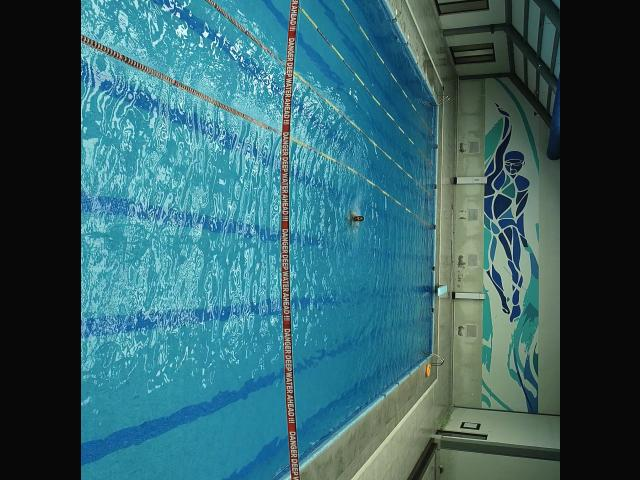swimming: (344, 211, 366, 227)
